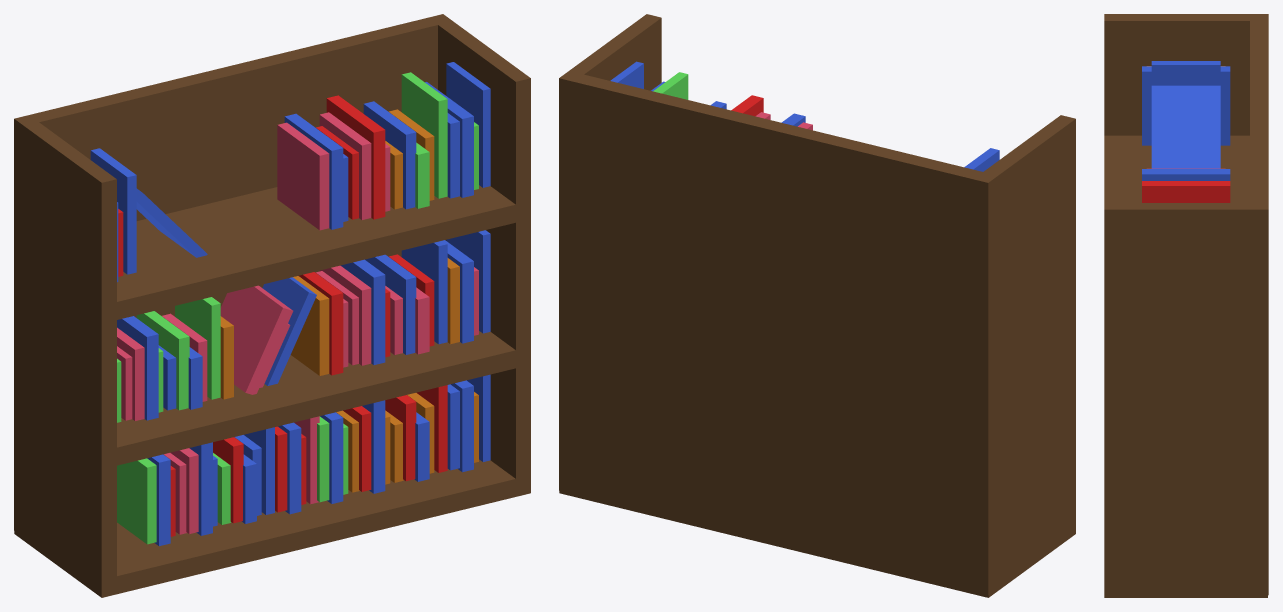
File: bookshelf.fbx
3 renders of one model, left to right at view 1: azimuth 30°, elevation 25°; view 2: azimuth 150°, elevation 25°; view 3: azimuth 270°, elevation 25°, orthographic. The views are drawn at different scales.
Visible parts, largest first — view 1: Cube.001, Cube.002, Cube.007, Cube, Cube.006, Cube.005, Cube.078, Cube.025, Cube.073, Cube.020, Cube.016, Cube.022 (+59 smaller); view 2: Cube.001, Cube.002, Cube.005, Cube, Cube.006, Cube.007; view 3: Cube.005, Cube.002, Cube.001, Cube.007, Cube.012, Cube.022, Cube.011, Cube, Cube.009, Cube.026.
Boxes of the visible parts, box(x1,y1,x2,y2) form: Cube.001: box(14, 14, 452, 530); Cube.002: box(22, 122, 116, 586); Cube.007: box(24, 185, 529, 323); Cube: box(14, 459, 530, 597); Cube.006: box(14, 331, 515, 468); Cube.005: box(438, 21, 530, 485); Cube.078: box(220, 285, 293, 394); Cube.025: box(277, 122, 329, 230); Cube.073: box(117, 458, 156, 544); Cube.020: box(401, 72, 447, 198); Cube.016: box(446, 62, 490, 187); Cube.022: box(326, 95, 385, 219); Cube.001: box(559, 71, 998, 594); Cube.002: box(983, 115, 1075, 572); Cube.005: box(569, 14, 661, 90); Cube: box(559, 490, 1075, 597); Cube.006: box(988, 387, 1075, 467); Cube.007: box(1015, 242, 1075, 297); Cube.005: box(1104, 203, 1252, 587); Cube.002: box(1104, 14, 1252, 135); Cube.001: box(1250, 14, 1268, 595); Cube.007: box(1104, 135, 1267, 341); Cube.012: box(1151, 85, 1220, 168); Cube.022: box(1142, 181, 1230, 202); Cube.011: box(1151, 61, 1220, 85); Cube: box(1104, 581, 1267, 597); Cube.009: box(1142, 66, 1230, 145); Cube.026: box(1142, 169, 1230, 180).
Size of the model in its own units: 53.08 by 49.07 by 18.79.
